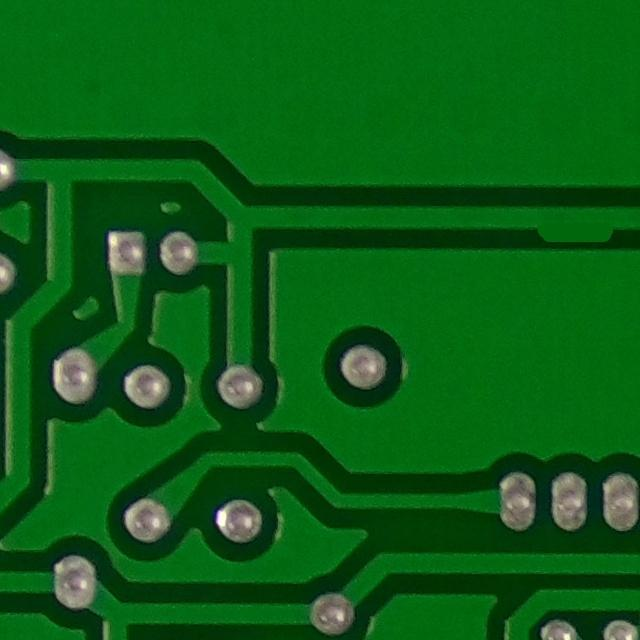spur: (515, 194, 627, 254)
